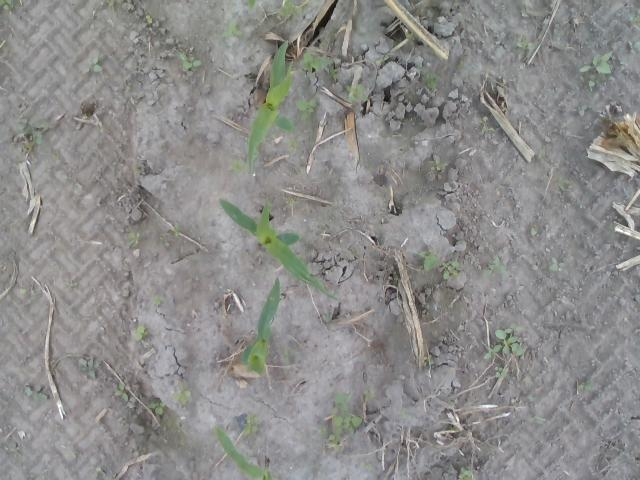Maize: (218, 197, 338, 302), (248, 39, 296, 162), (240, 276, 280, 377), (212, 425, 274, 480), (246, 0, 258, 10)
Weeds: (318, 392, 362, 450), (578, 52, 626, 89), (483, 323, 526, 359), (9, 118, 48, 154), (303, 51, 337, 82), (415, 64, 441, 90), (176, 48, 202, 72), (483, 255, 507, 279), (416, 247, 438, 272), (222, 19, 246, 40), (78, 357, 99, 379), (296, 98, 316, 120), (442, 260, 464, 280), (345, 83, 369, 101), (278, 0, 302, 17), (80, 56, 103, 73), (241, 412, 258, 433), (143, 400, 165, 416), (228, 158, 250, 174), (23, 386, 48, 400), (112, 382, 130, 401), (175, 386, 192, 406), (479, 115, 496, 134), (550, 255, 566, 274), (426, 159, 449, 171), (362, 384, 378, 401), (132, 324, 148, 341), (127, 232, 145, 247), (514, 39, 538, 50), (0, 0, 15, 16), (578, 376, 592, 392), (556, 175, 569, 192), (458, 466, 473, 480), (172, 223, 184, 239), (286, 139, 298, 154), (576, 103, 588, 116), (528, 415, 545, 424), (287, 196, 299, 208), (494, 366, 506, 378), (143, 14, 156, 25), (105, 0, 122, 8), (361, 463, 376, 472), (404, 30, 416, 41), (322, 312, 334, 322), (422, 354, 432, 366), (152, 296, 166, 304), (629, 40, 640, 49), (630, 15, 640, 23), (283, 351, 289, 364), (376, 58, 384, 65)
